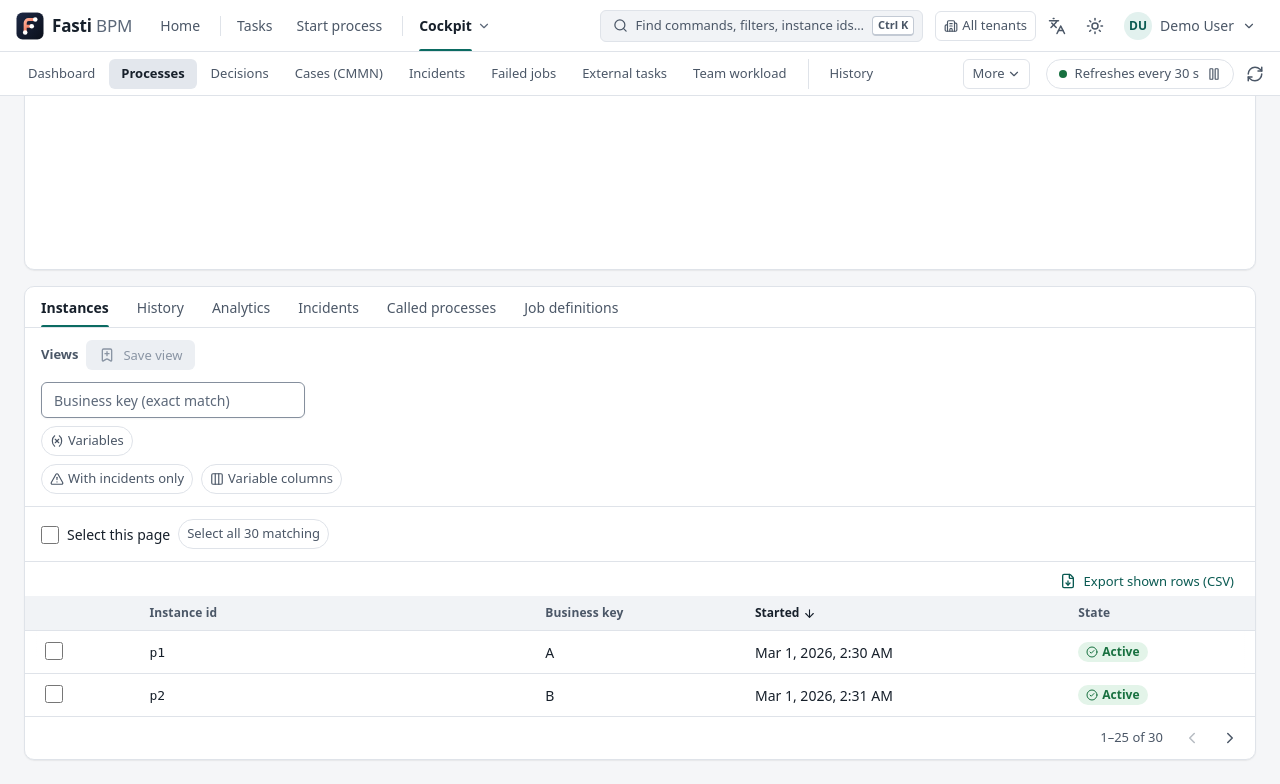
Test: bulk operations › drops the selection when the tenant changes
The image size is (1280, 784).
Later steps or results of the test are not shown.
(page scrolled)
Click the checkbox named "Select instance p1": (54, 651) [45,642,63,660]
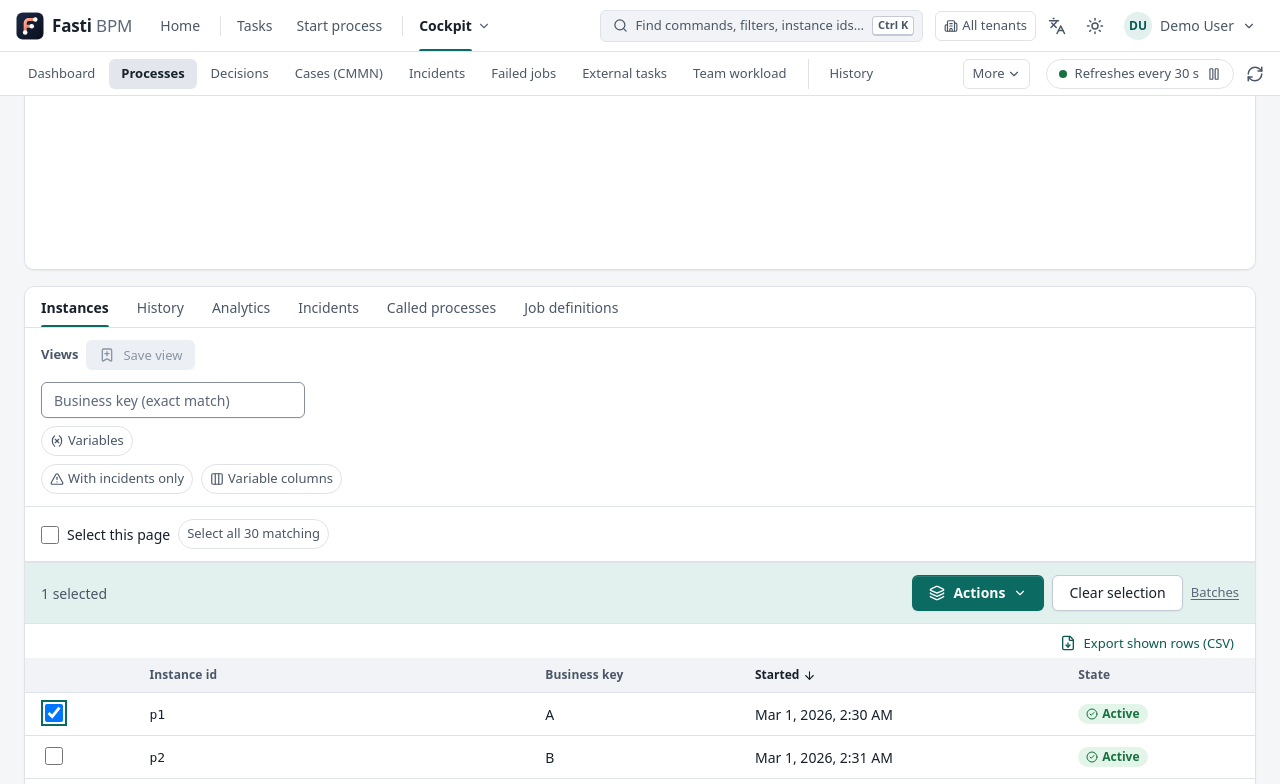
Expected: the element named "Selected instances" is shown, [25,562,1255,624]
